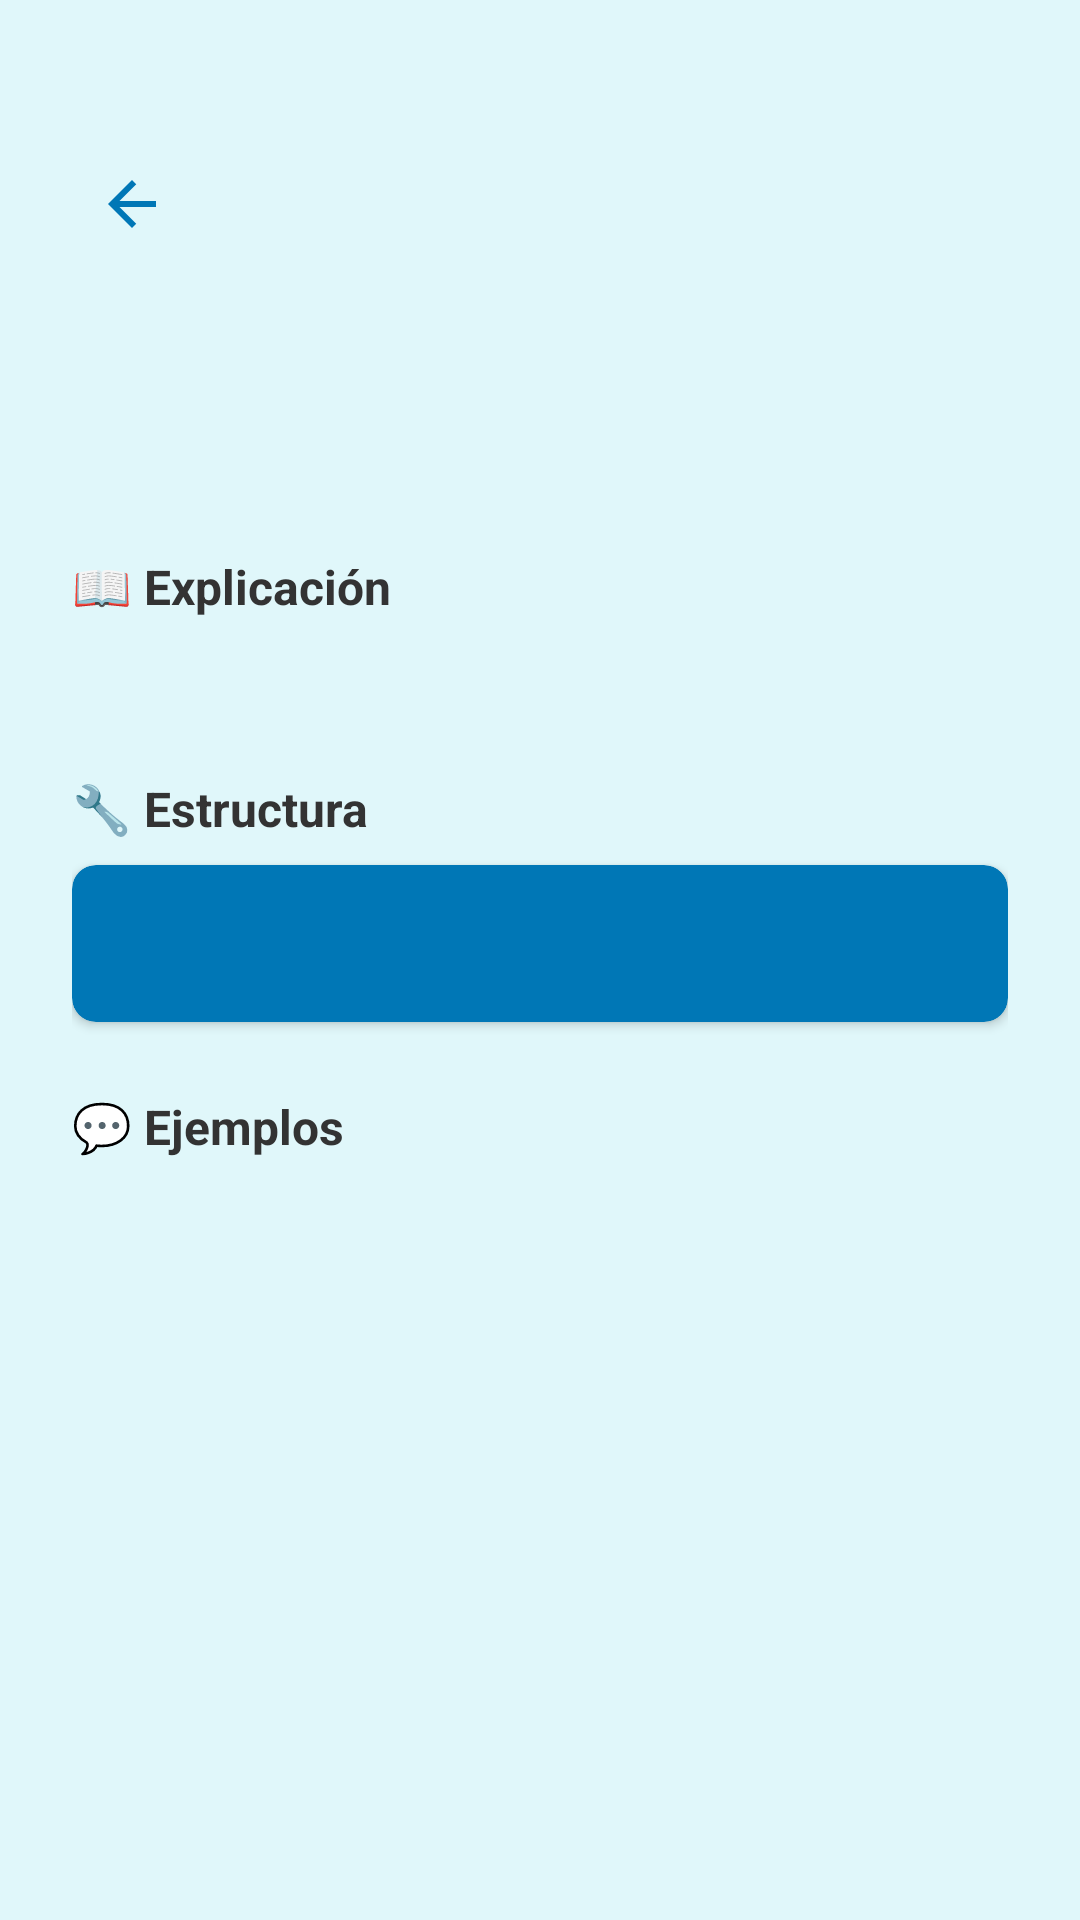

Named icons in this screenshot (1080*1920) and their bounding boxes, {"x1": x1, "y1": y1, "x2": x2, "y2": y2}:
back: {"x1": 108, "y1": 180, "x2": 156, "y2": 228}
